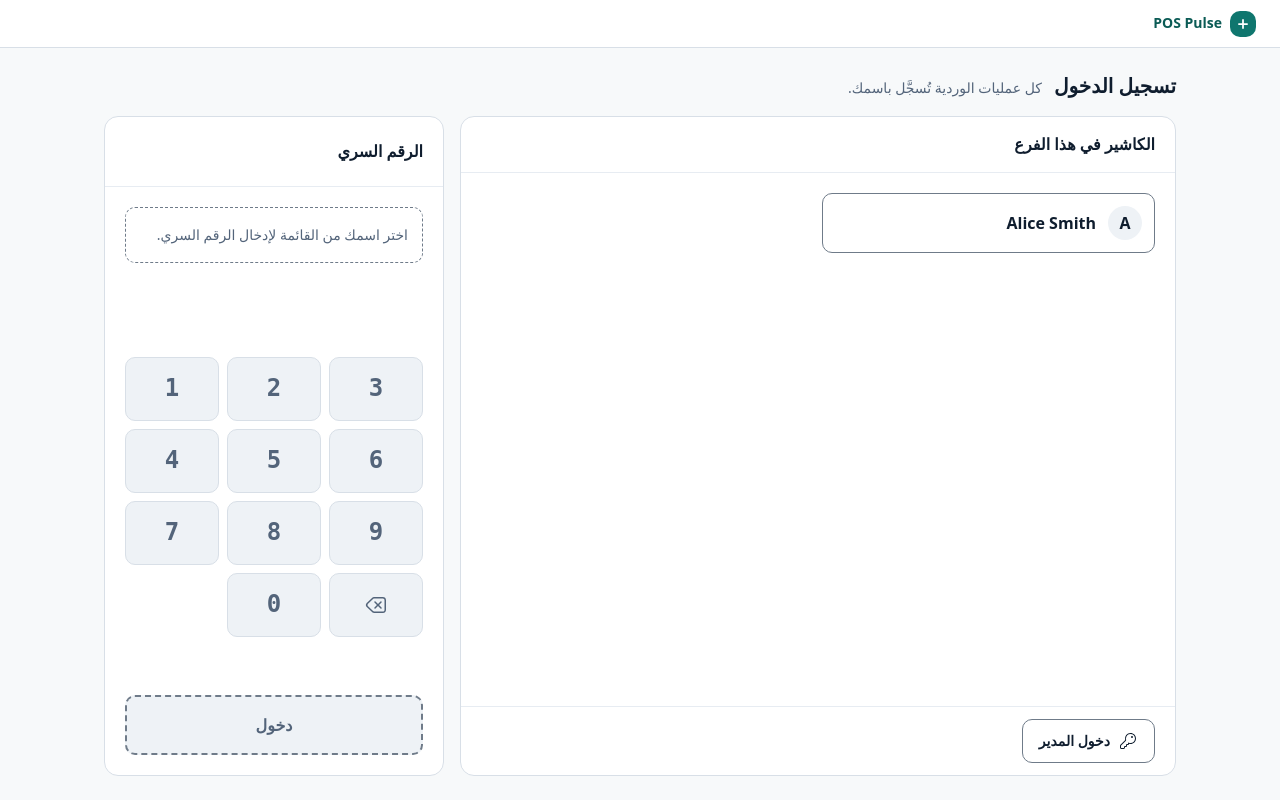
SignInRoute — RT-244 two-zone stage › a wrong PIN shows the generic refusal in the reserved slot and links it to the PIN field
The image size is (1280, 800).
Click the button with test id "roster-item-0": [1125, 223] box [822, 193, 1155, 253]
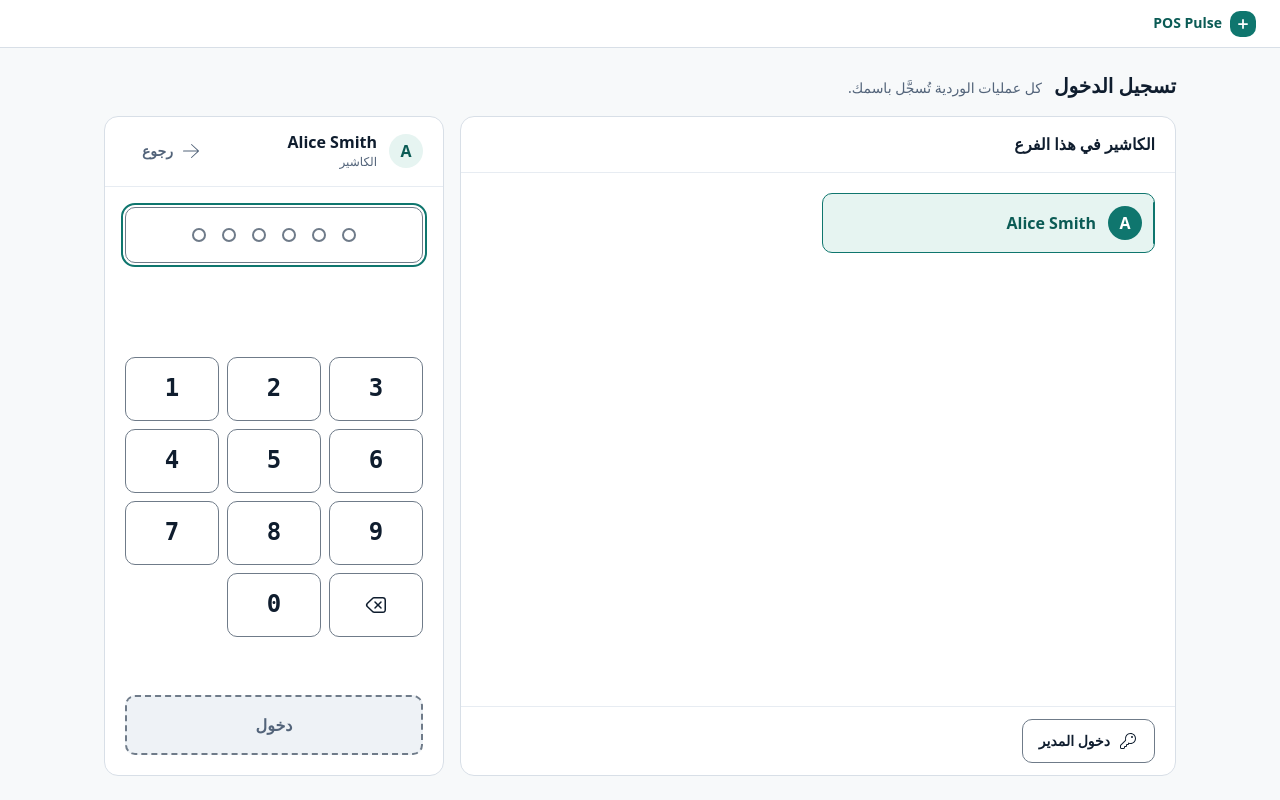
Click the button "1": [172, 389] box [125, 357, 219, 421]
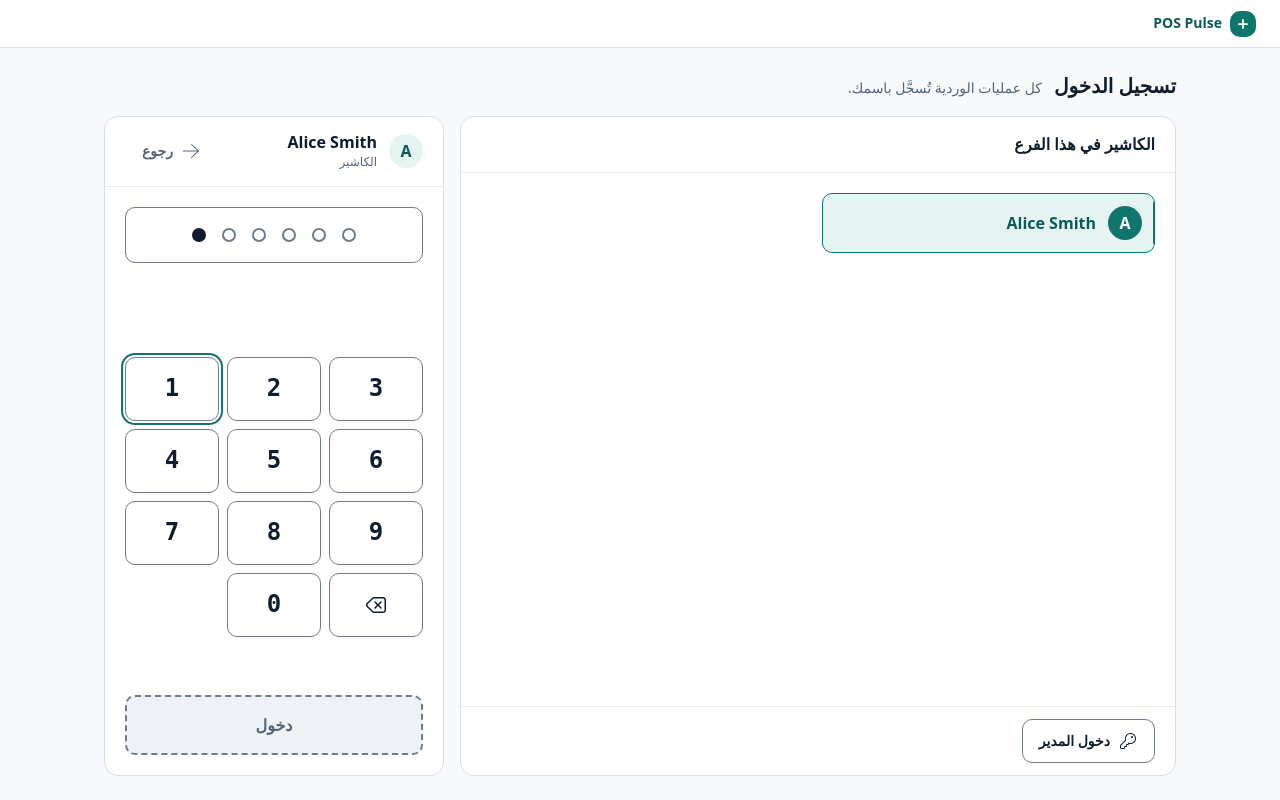
Click the button "2": [274, 389] box [227, 357, 321, 421]
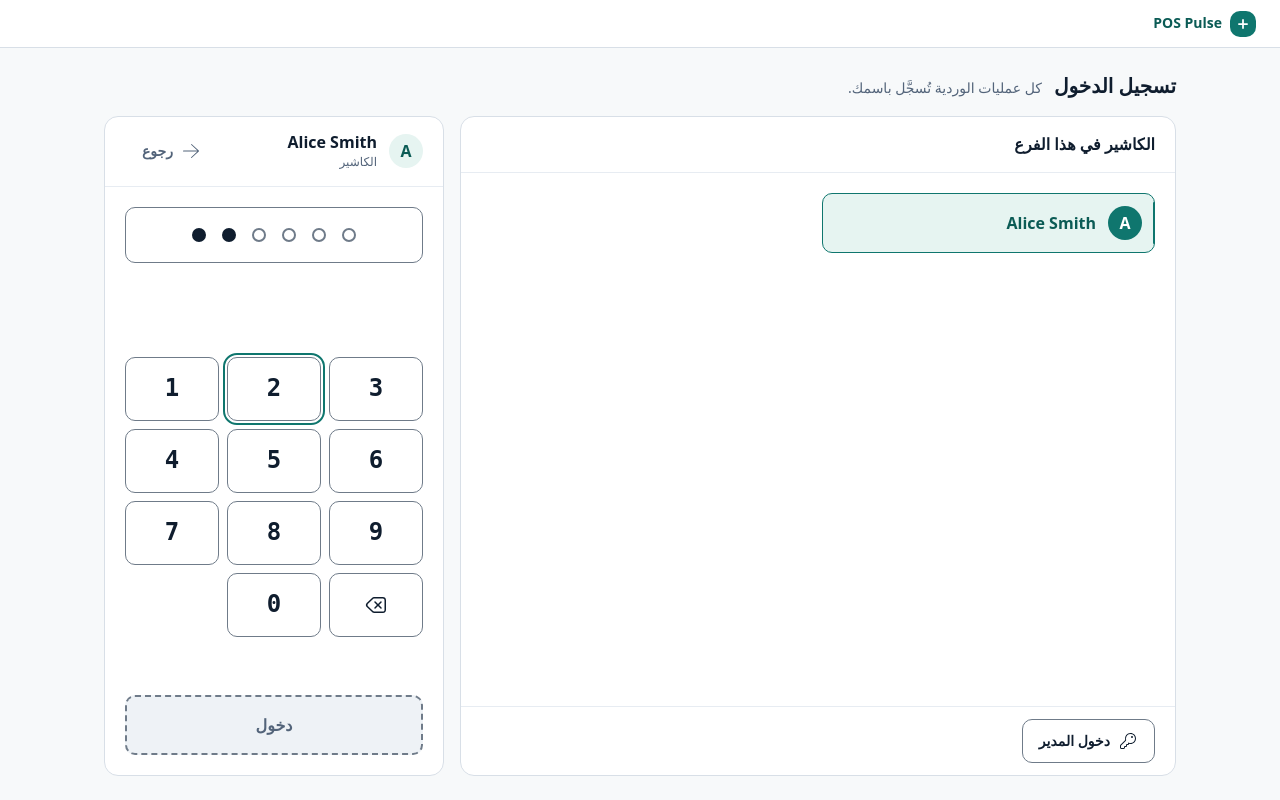
Click the button "3": [376, 389] box [329, 357, 423, 421]
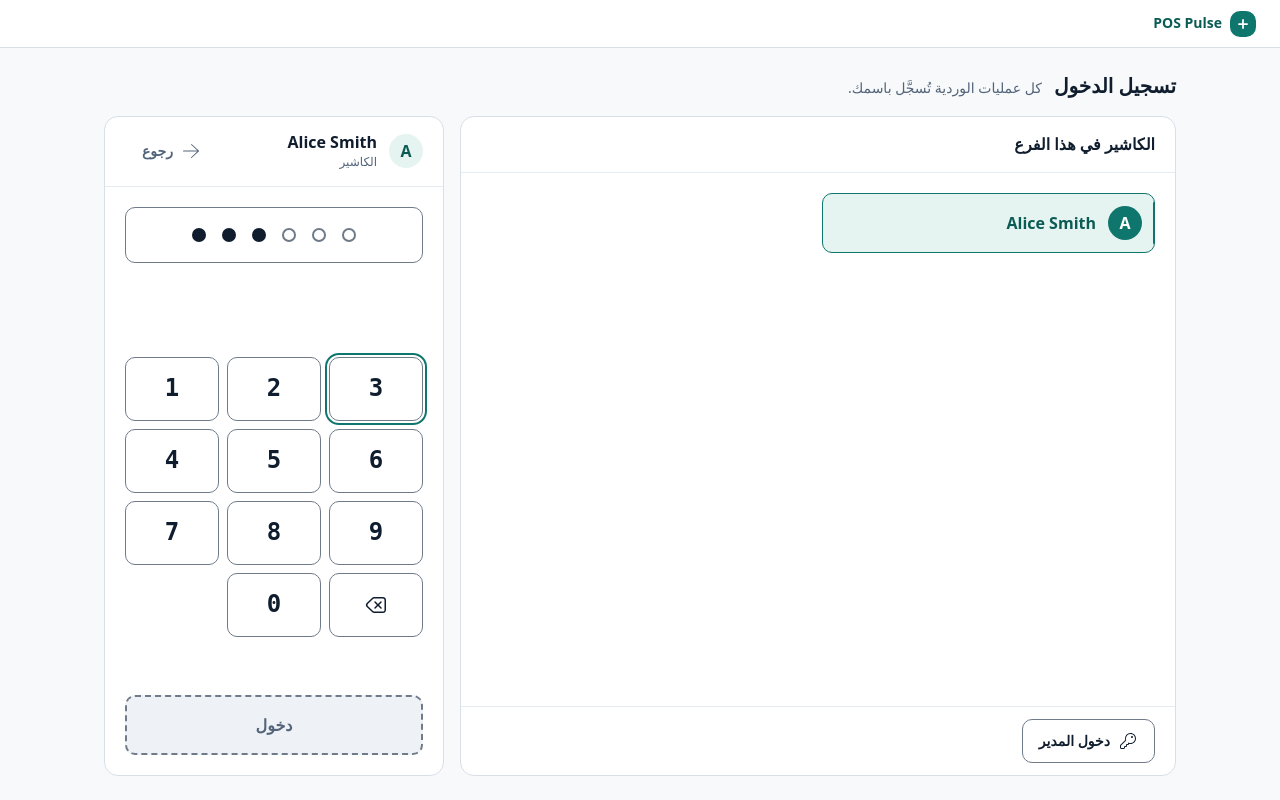
Click the button "4": [172, 461] box [125, 429, 219, 493]
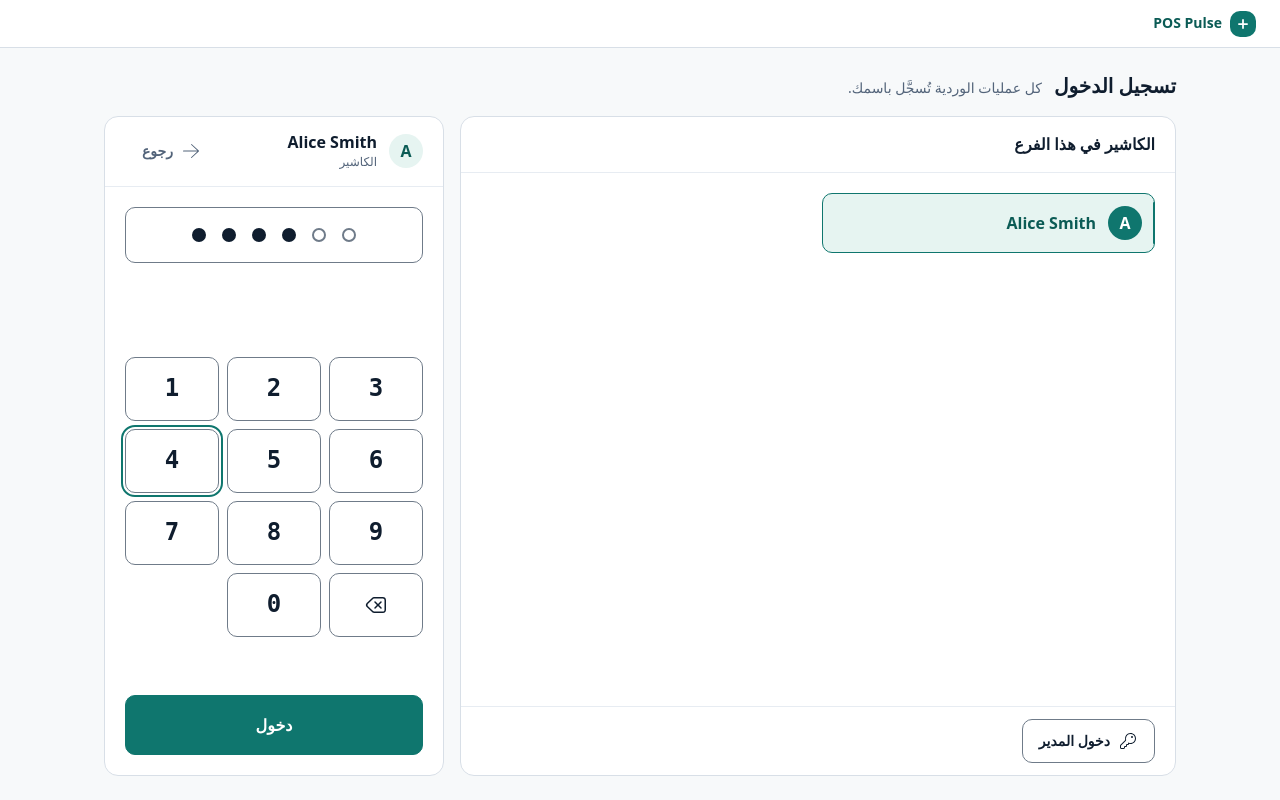
Click the button with test id "pin-pad-enter": [274, 725] box [125, 695, 423, 755]
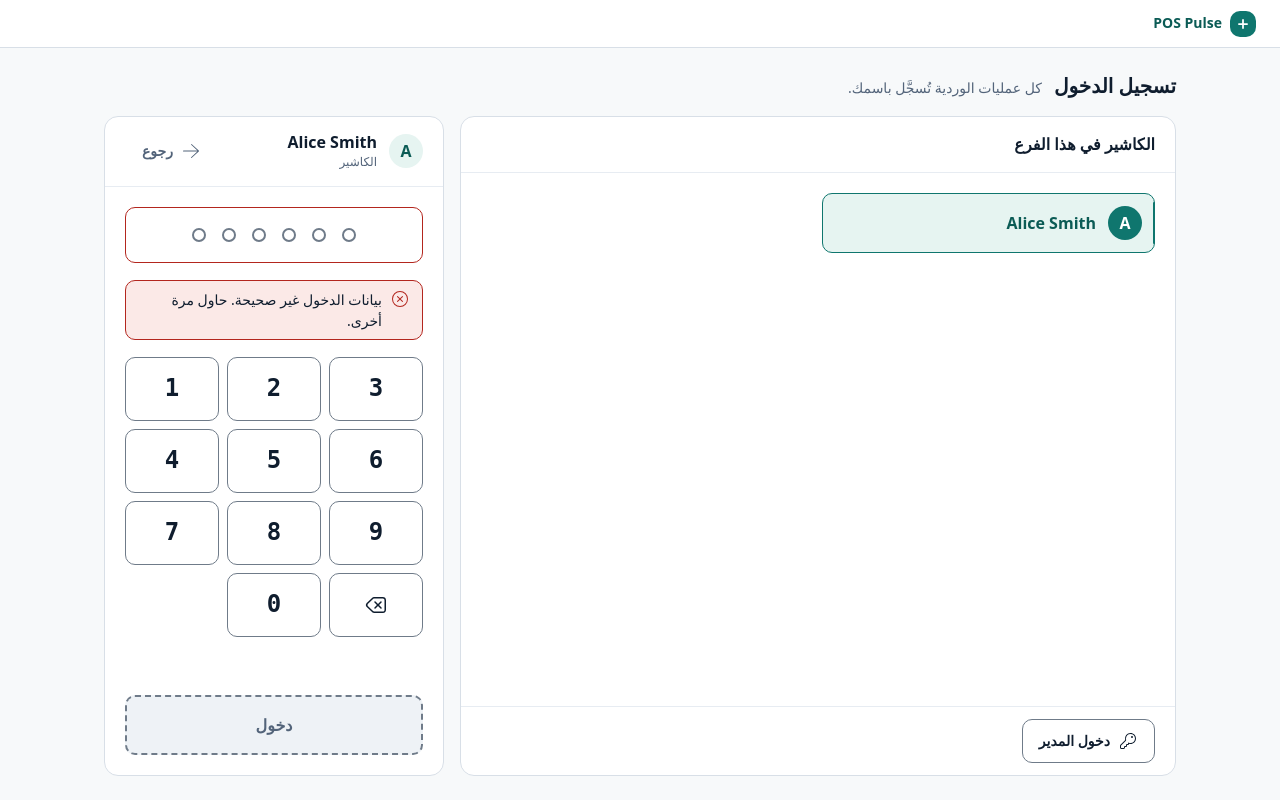
Now the message with test id "cashier-sign-in-error" reads "بيانات الدخول غير صحيحة. حاول مرة أخرى.", box [171, 290, 382, 330]
